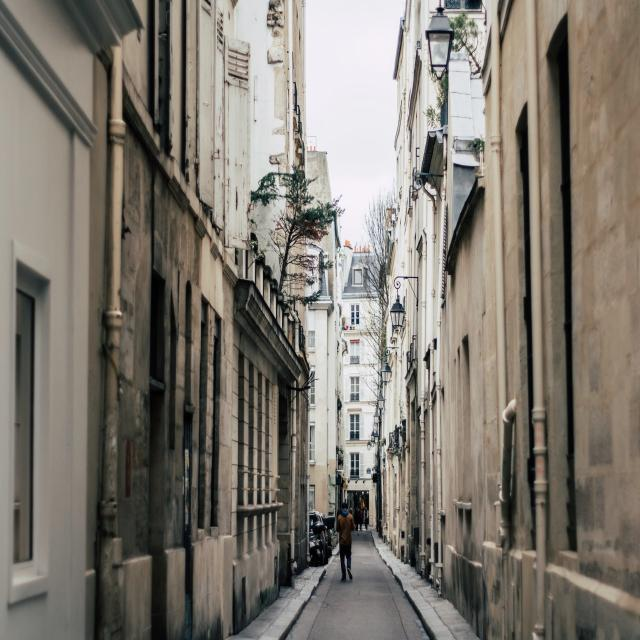adult: (335, 501, 357, 584)
